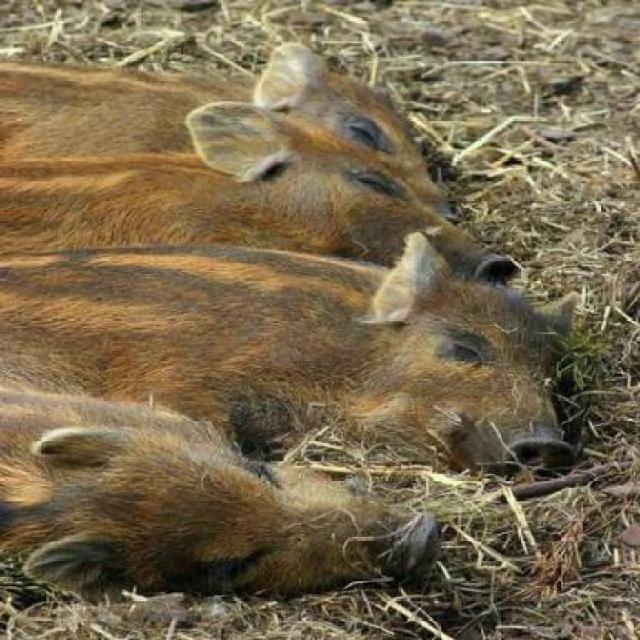Boar: (15, 220, 583, 468), (0, 2, 451, 200), (47, 391, 416, 632), (6, 117, 531, 283)
